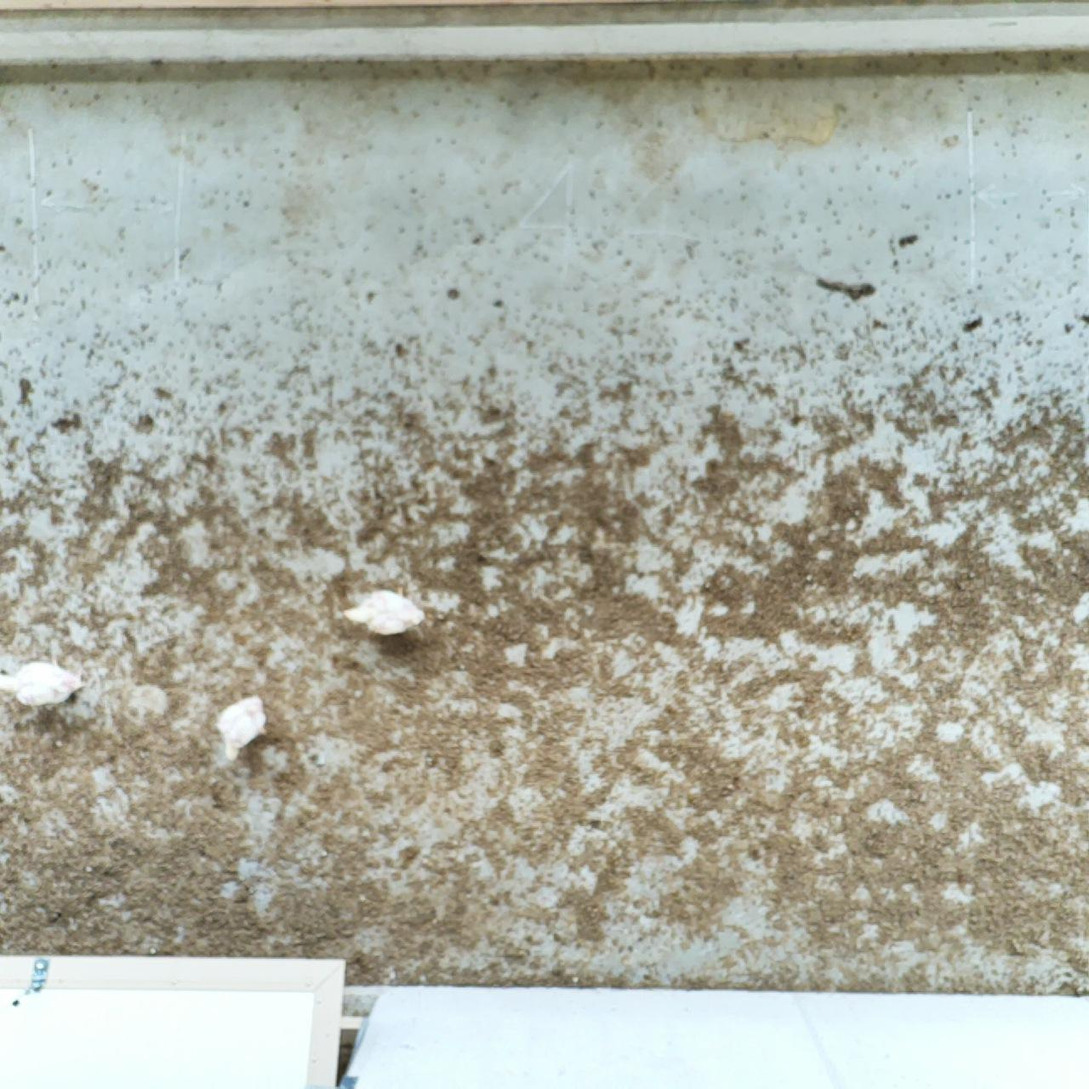chicken: (0, 647, 87, 712), (341, 580, 430, 640), (212, 690, 271, 763)
